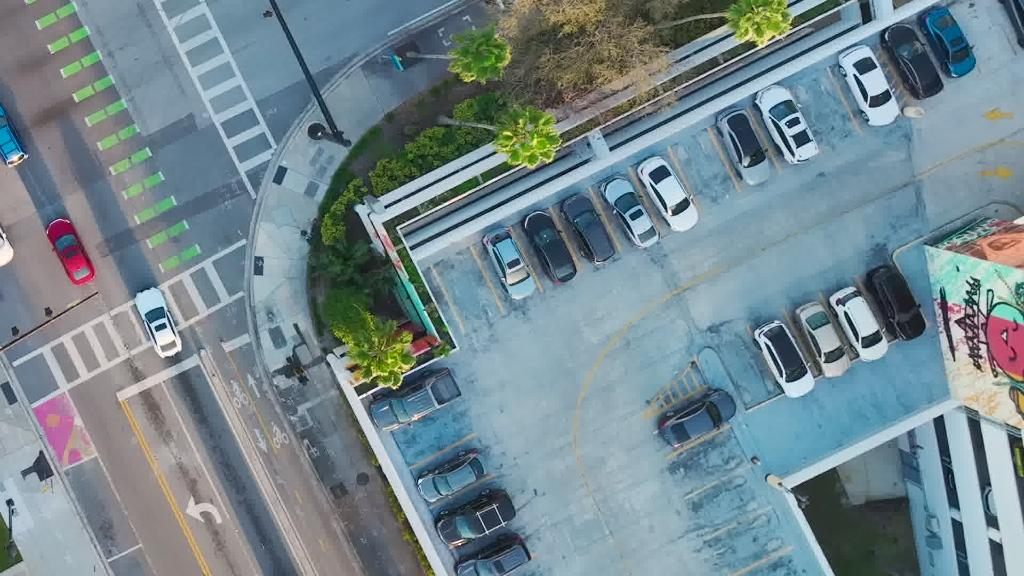cars: (368, 366, 462, 432), (754, 84, 818, 164), (837, 44, 899, 126), (436, 488, 516, 550), (880, 22, 944, 98), (753, 320, 815, 398), (636, 156, 698, 232), (658, 387, 736, 447), (866, 265, 926, 341), (828, 286, 888, 362), (715, 106, 771, 184), (598, 176, 660, 246), (794, 301, 850, 377), (918, 5, 976, 77), (522, 209, 576, 283), (560, 195, 616, 265), (416, 449, 488, 503), (482, 227, 536, 299), (132, 286, 182, 358), (454, 532, 532, 576), (46, 217, 96, 285), (0, 100, 29, 167), (998, 0, 1024, 49), (0, 202, 14, 268)
